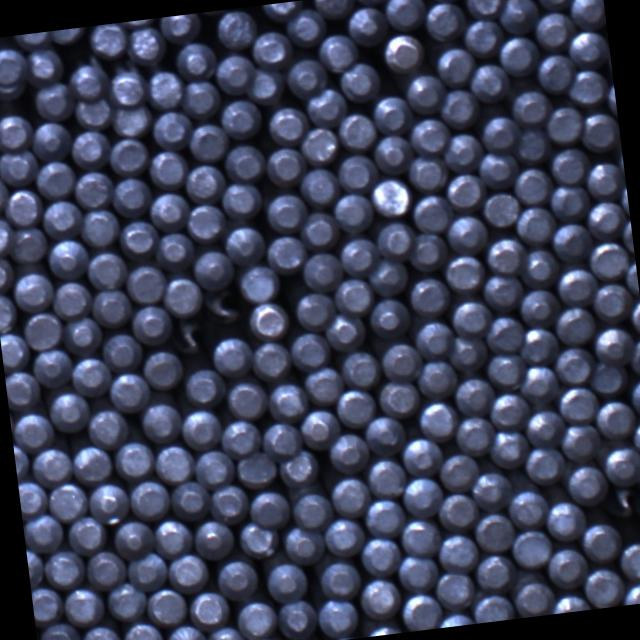tool: (216, 556, 262, 602), (358, 574, 404, 620), (87, 478, 132, 524), (362, 412, 407, 457), (48, 388, 92, 434), (326, 430, 370, 476), (328, 473, 372, 518), (322, 514, 367, 558), (400, 475, 444, 520), (86, 406, 130, 451), (218, 96, 263, 140), (264, 559, 308, 604), (323, 308, 368, 352), (382, 31, 426, 76), (283, 56, 328, 100), (180, 407, 223, 453), (302, 250, 346, 294), (61, 584, 105, 628), (22, 509, 66, 553), (128, 478, 172, 522), (296, 406, 340, 450), (166, 551, 210, 595), (192, 516, 236, 560), (106, 368, 150, 412), (188, 586, 232, 630), (580, 566, 624, 610), (168, 478, 212, 522), (544, 498, 588, 542), (368, 174, 412, 218), (361, 496, 405, 540), (378, 338, 422, 382), (11, 271, 55, 315), (368, 296, 412, 340), (45, 236, 89, 280), (402, 434, 446, 478), (315, 596, 359, 640), (304, 84, 348, 128), (68, 127, 112, 171), (509, 526, 554, 569), (333, 386, 378, 429), (69, 353, 112, 398), (281, 522, 326, 565), (416, 399, 459, 444), (247, 486, 291, 529), (84, 548, 128, 591), (141, 348, 184, 392), (126, 548, 170, 591), (292, 288, 336, 331), (223, 140, 267, 183), (267, 378, 310, 422), (207, 481, 250, 525), (264, 143, 308, 186), (66, 514, 110, 557), (422, 0, 466, 43), (446, 213, 490, 256), (338, 59, 382, 102), (371, 133, 414, 177), (139, 399, 182, 443), (346, 4, 390, 47), (593, 322, 636, 366), (469, 468, 513, 511), (192, 247, 236, 290), (277, 446, 321, 489), (234, 597, 278, 640), (174, 38, 217, 82), (220, 178, 264, 221), (404, 72, 447, 116), (566, 462, 608, 507), (44, 547, 87, 590), (11, 409, 54, 452), (216, 6, 259, 49), (106, 579, 149, 622), (593, 398, 636, 441), (182, 162, 225, 205), (182, 364, 225, 407), (222, 222, 265, 265), (46, 480, 90, 522), (110, 516, 154, 558), (70, 442, 114, 484), (72, 169, 116, 211), (358, 535, 402, 577), (210, 335, 252, 379), (226, 378, 270, 420), (302, 364, 346, 406), (398, 516, 442, 558), (264, 232, 308, 274), (318, 558, 362, 600), (442, 131, 484, 175), (266, 102, 310, 144), (236, 518, 280, 560), (372, 92, 414, 136), (578, 110, 620, 154), (588, 238, 632, 280), (487, 390, 531, 432), (452, 374, 496, 416), (285, 5, 329, 47), (192, 448, 235, 490), (146, 584, 189, 626), (152, 443, 195, 485), (152, 516, 194, 559), (567, 28, 610, 70), (112, 438, 155, 480), (161, 274, 203, 317), (399, 590, 442, 632), (220, 416, 263, 458), (580, 520, 622, 563), (124, 261, 167, 303), (410, 192, 452, 235), (188, 120, 231, 162), (130, 304, 173, 346), (330, 190, 372, 233), (436, 532, 479, 574), (472, 512, 515, 554), (365, 456, 407, 499), (277, 597, 319, 640), (366, 254, 409, 296), (546, 545, 588, 588), (554, 304, 597, 346), (506, 486, 549, 528), (438, 450, 481, 492), (496, 33, 538, 76), (33, 82, 76, 124), (150, 109, 192, 152), (298, 165, 341, 207), (108, 134, 150, 177), (147, 189, 189, 232), (214, 52, 256, 95), (62, 312, 104, 355), (488, 426, 531, 468), (415, 358, 458, 400), (248, 29, 292, 70), (408, 228, 449, 272), (32, 444, 74, 486), (260, 418, 302, 460), (316, 32, 358, 74), (332, 276, 374, 318), (252, 338, 294, 380), (515, 204, 557, 246), (32, 348, 74, 390), (378, 376, 420, 418), (86, 250, 128, 292), (524, 444, 566, 486), (30, 120, 72, 162), (90, 287, 132, 329), (41, 198, 83, 240), (592, 280, 634, 322), (408, 274, 450, 316), (555, 266, 597, 308), (518, 286, 560, 328), (443, 170, 485, 212), (435, 46, 477, 88), (264, 192, 306, 234), (156, 228, 198, 270), (550, 222, 592, 264), (525, 404, 567, 446), (476, 148, 518, 190), (339, 349, 382, 390), (287, 329, 330, 370), (34, 157, 77, 198), (79, 204, 120, 247), (246, 300, 289, 341), (409, 115, 452, 156), (481, 271, 524, 312), (236, 448, 280, 488), (52, 280, 94, 321), (22, 308, 64, 349), (338, 235, 379, 277), (111, 176, 152, 218), (534, 9, 576, 50), (336, 111, 378, 152), (300, 125, 341, 167), (474, 552, 516, 593), (438, 86, 479, 128), (556, 384, 598, 425), (442, 252, 484, 293), (483, 234, 524, 276), (244, 64, 286, 105), (484, 314, 526, 355), (560, 421, 602, 462), (518, 326, 560, 367), (291, 490, 334, 530), (374, 219, 414, 262), (237, 262, 280, 302), (565, 66, 608, 106), (600, 444, 640, 487), (470, 61, 510, 104), (394, 551, 438, 590), (545, 103, 586, 144), (462, 16, 503, 57), (298, 210, 339, 251), (584, 199, 625, 240), (67, 61, 108, 102), (455, 414, 495, 456), (434, 570, 476, 610), (148, 148, 188, 190), (185, 202, 227, 242), (536, 51, 576, 93), (144, 67, 184, 109), (437, 491, 479, 531), (553, 343, 595, 383), (336, 152, 378, 192), (126, 22, 166, 64), (405, 152, 447, 192), (24, 44, 64, 86), (180, 76, 220, 118), (413, 320, 455, 360), (8, 223, 50, 263), (549, 180, 591, 220), (513, 166, 553, 207), (2, 186, 43, 226), (100, 330, 141, 370), (585, 160, 626, 200), (106, 68, 147, 108), (512, 579, 554, 618), (508, 88, 550, 127), (550, 146, 590, 186), (480, 112, 520, 152), (118, 218, 158, 258), (520, 366, 560, 406), (112, 101, 154, 139), (450, 298, 491, 336), (86, 22, 128, 59), (482, 190, 522, 228), (0, 45, 28, 99), (495, 0, 538, 35), (486, 354, 525, 392), (4, 368, 40, 409), (0, 112, 34, 154), (160, 12, 202, 46), (472, 592, 515, 624), (382, 0, 426, 31), (31, 583, 64, 624), (17, 478, 48, 518), (567, 0, 606, 30), (0, 331, 29, 370), (617, 539, 640, 583), (260, 0, 304, 22), (550, 591, 592, 614), (121, 618, 164, 640), (26, 545, 46, 589), (38, 620, 80, 640), (313, 0, 356, 19), (13, 442, 32, 484), (80, 622, 124, 640), (465, 0, 506, 19), (165, 622, 208, 640), (0, 292, 17, 335), (436, 610, 476, 628), (50, 26, 90, 44), (12, 31, 52, 48), (205, 624, 245, 640), (623, 258, 639, 296), (364, 622, 404, 637), (627, 337, 640, 380), (620, 214, 634, 253), (0, 214, 13, 255), (604, 80, 618, 118), (0, 255, 13, 294), (628, 376, 640, 417), (628, 296, 640, 337), (621, 580, 640, 605), (618, 182, 630, 218), (534, 0, 577, 10), (0, 172, 8, 212), (632, 418, 640, 458), (351, 0, 394, 5), (243, 636, 283, 640)
tool_b: (202, 286, 244, 328), (170, 316, 207, 358), (602, 488, 638, 524)
